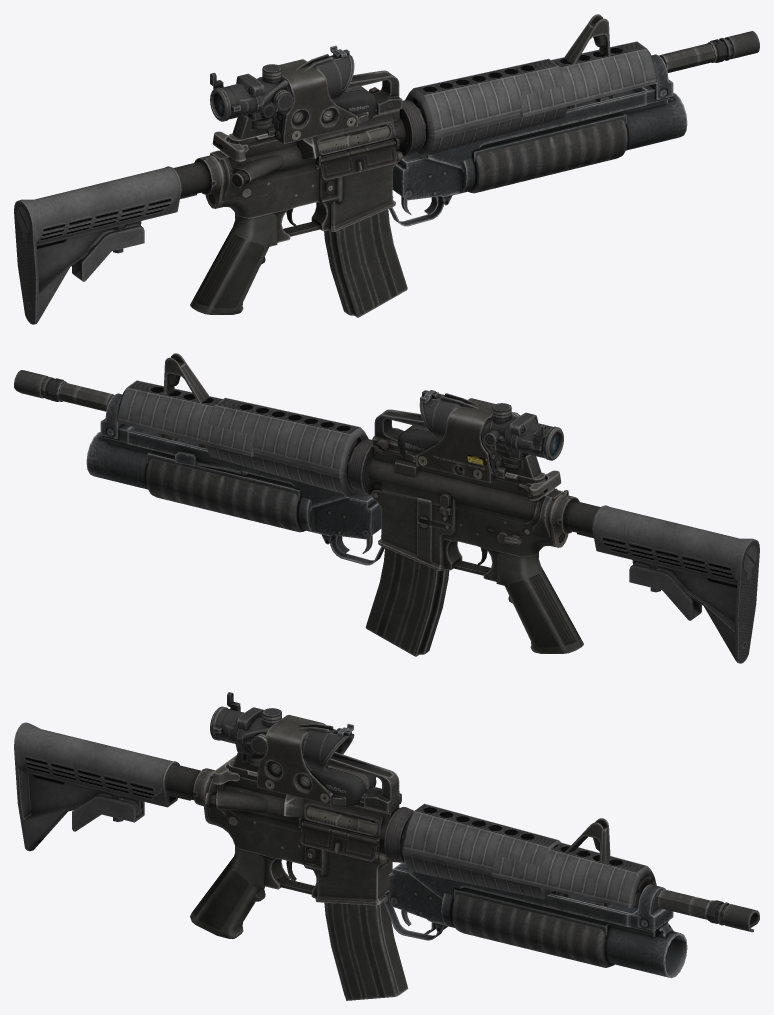
Rendered from AssaultRifle07.FBX.
3 renders of one model, top to bottom at view 1: azimuth 30°, elevation 25°; view 2: azimuth 150°, elevation 25°; view 3: azimuth 330°, elevation 25°, orthographic.
Visible parts, largest first — view 1: AssaultRifle07_Body01, AssaultRifle07_Imp03, AssaultRifle07_Body03, AssaultRifle07_Body04, AssaultRifle07_Imp04, AssaultRifle07_Imp01, AssaultRifle07_Body02; view 2: AssaultRifle07_Body01, AssaultRifle07_Imp03, AssaultRifle07_Body03, AssaultRifle07_Body04, AssaultRifle07_Imp04, AssaultRifle07_Imp01, AssaultRifle07_Body02; view 3: AssaultRifle07_Body01, AssaultRifle07_Imp03, AssaultRifle07_Body03, AssaultRifle07_Body04, AssaultRifle07_Imp04, AssaultRifle07_Imp01, AssaultRifle07_Body02.
Part boxes in pixels (x1,y1,x2,y2): AssaultRifle07_Body01: (14,14,759,324); AssaultRifle07_Imp03: (389,54,687,226); AssaultRifle07_Body03: (405,58,567,157); AssaultRifle07_Body04: (519,41,656,117); AssaultRifle07_Imp04: (272,59,376,144); AssaultRifle07_Imp01: (210,45,354,121); AssaultRifle07_Body02: (228,70,402,144); AssaultRifle07_Body01: (14,353,759,663); AssaultRifle07_Imp03: (86,393,384,565); AssaultRifle07_Body03: (206,397,368,496); AssaultRifle07_Body04: (117,380,254,456); AssaultRifle07_Imp04: (397,398,501,483); AssaultRifle07_Imp01: (419,390,563,460); AssaultRifle07_Body02: (372,409,545,483); AssaultRifle07_Body01: (14,722,759,1000); AssaultRifle07_Imp03: (383,862,687,978); AssaultRifle07_Body03: (401,803,560,899); AssaultRifle07_Body04: (491,842,656,908); AssaultRifle07_Imp04: (257,715,376,805); AssaultRifle07_Imp01: (210,692,354,770); AssaultRifle07_Body02: (228,741,401,812).
Bounding box in the file's own units: 0.8026 × 0.278 × 0.065.
4 materials, 4 textured.
